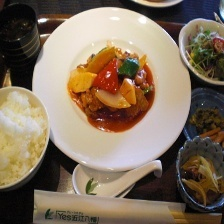rice: (0, 88, 48, 187)
